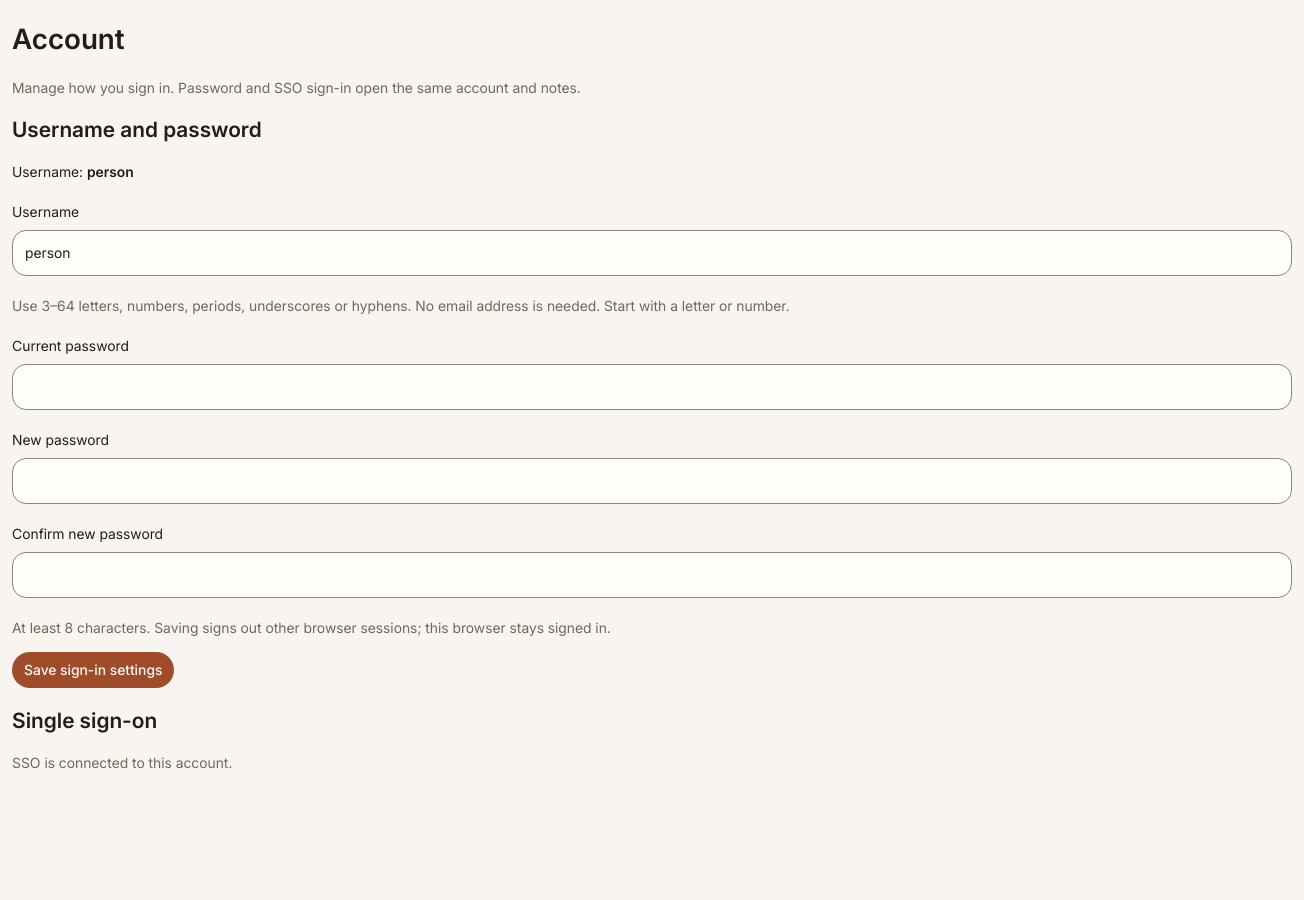
Scenario: keeps a failed credential change visible without claiming a fresh session
Type "wrong password" into the password field labelled "Current password" at (652, 387), box [12,364,1292,410]
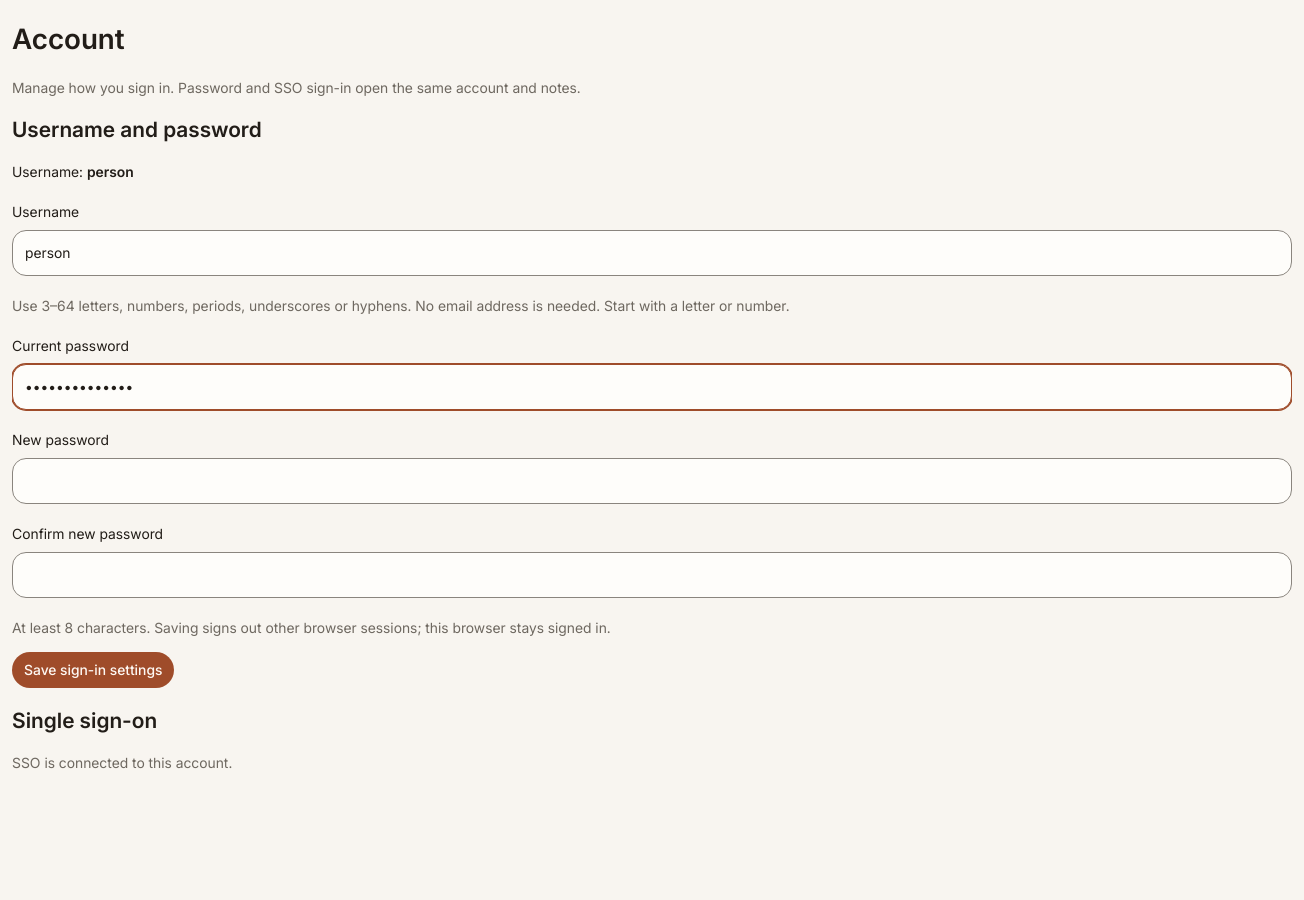
Type "changed passphrase" into the password field labelled "New password" at (652, 481), box [12,458,1292,504]
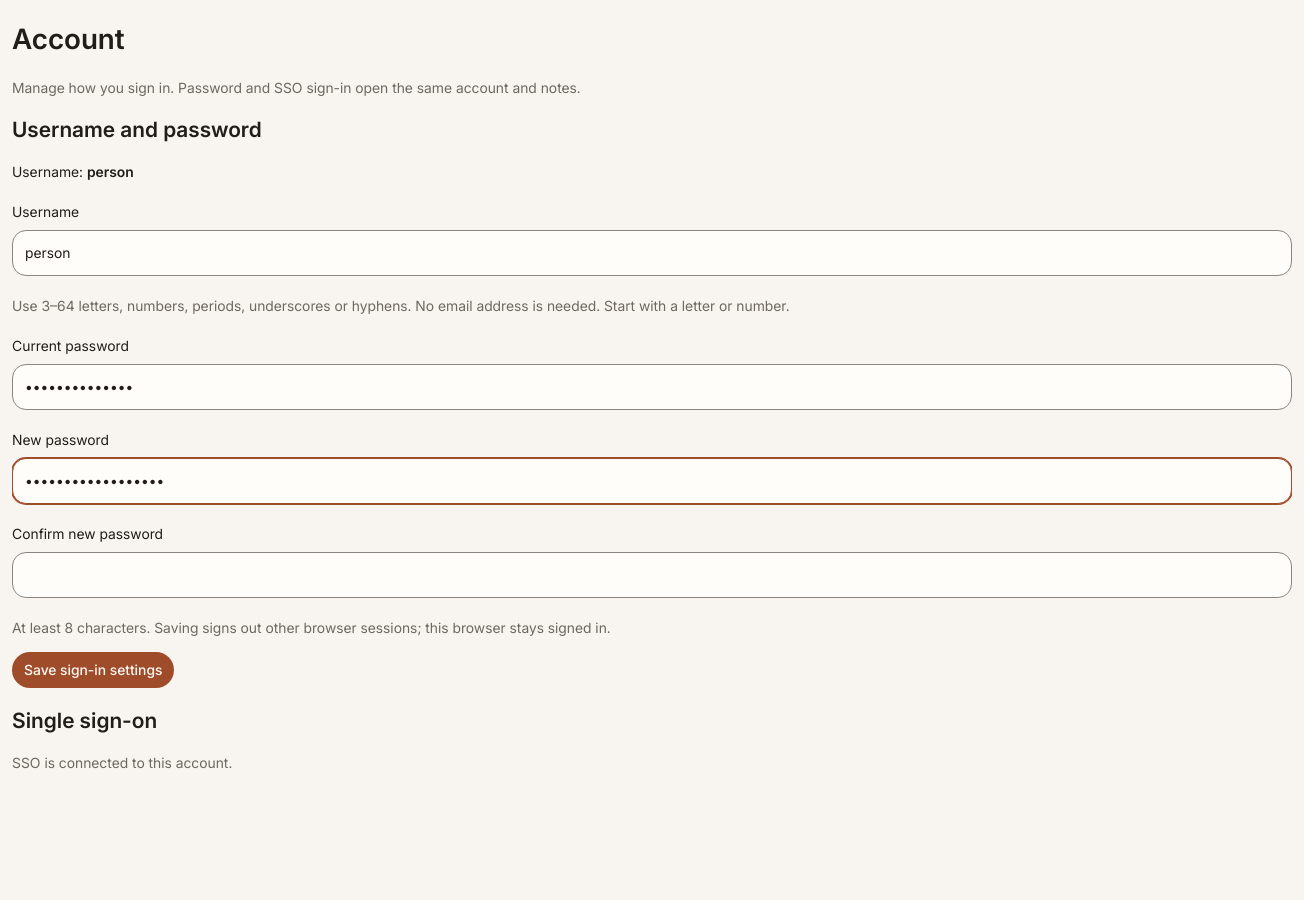
Type "changed passphrase" into the password field labelled "Confirm new password" at (652, 575), box [12,552,1292,598]
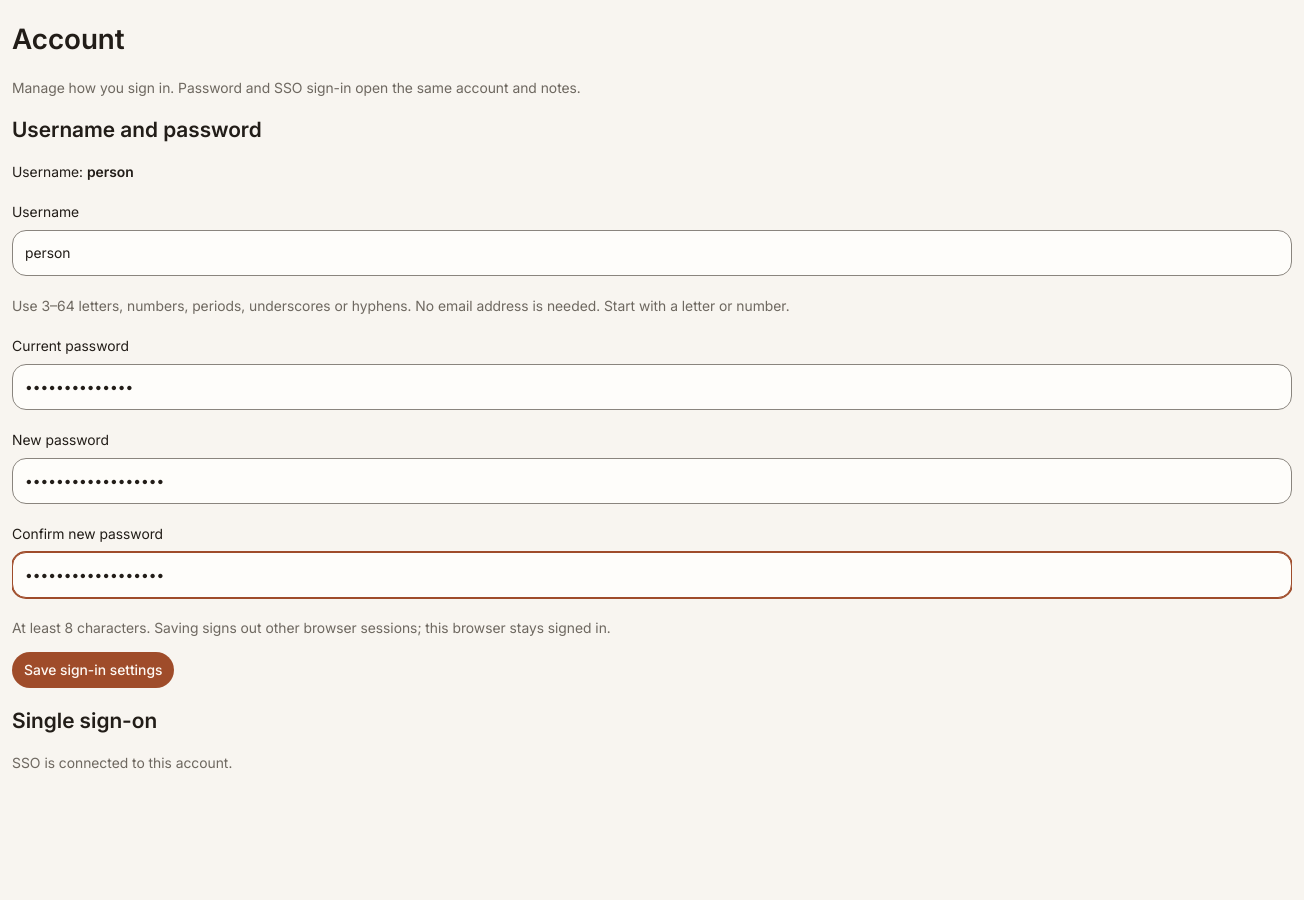
Click the button "Save sign-in settings" at (93, 670), box [12,652,174,688]
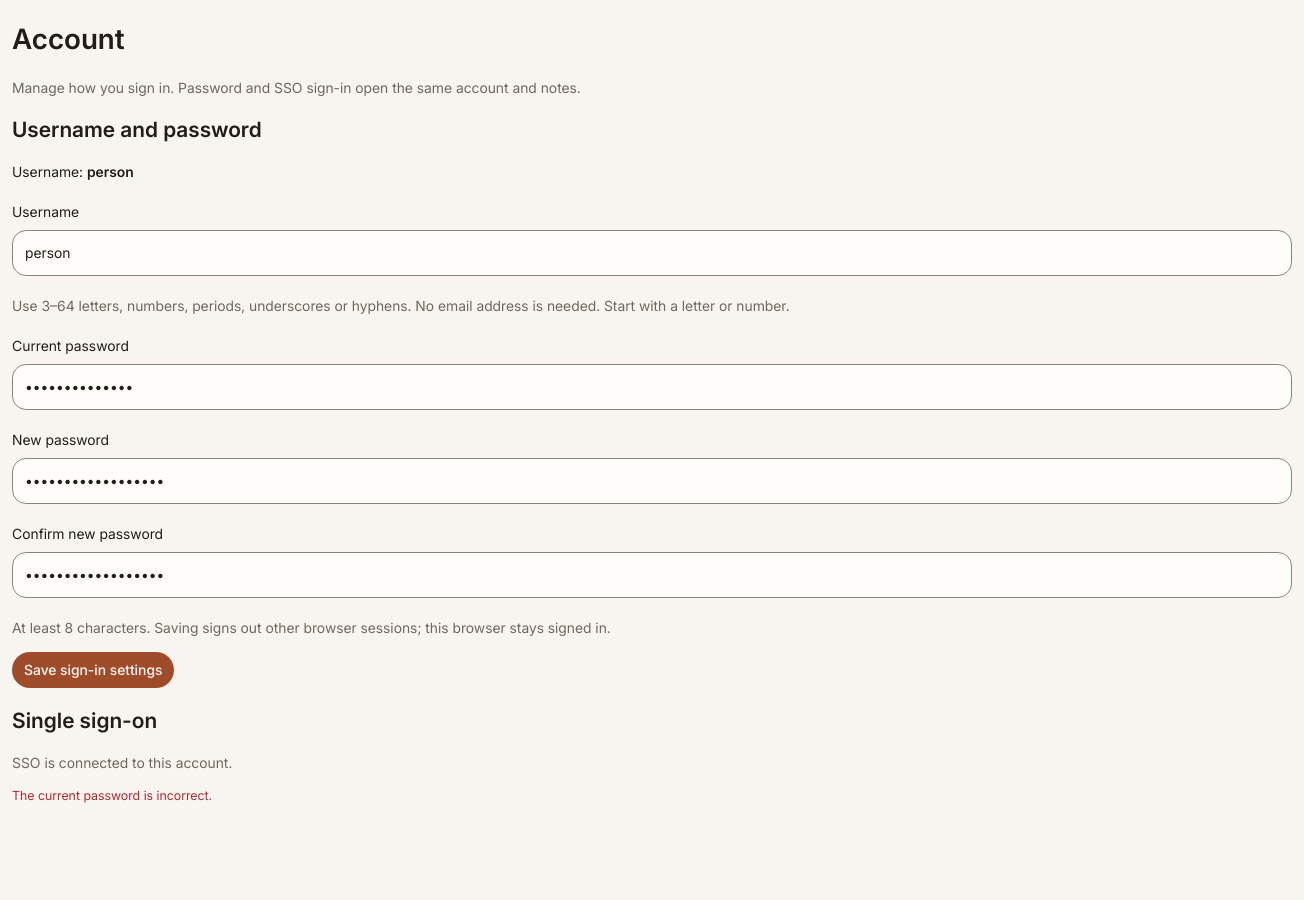
Expected: the message reads "The current password is incorrect.", [12,788,212,803]
